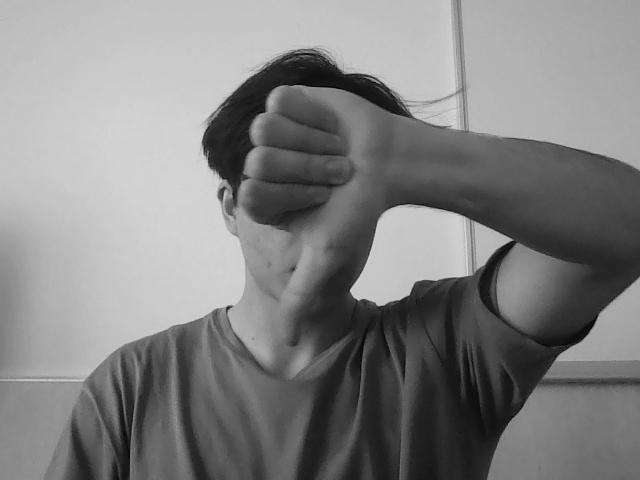bad: (222, 52, 398, 356)
